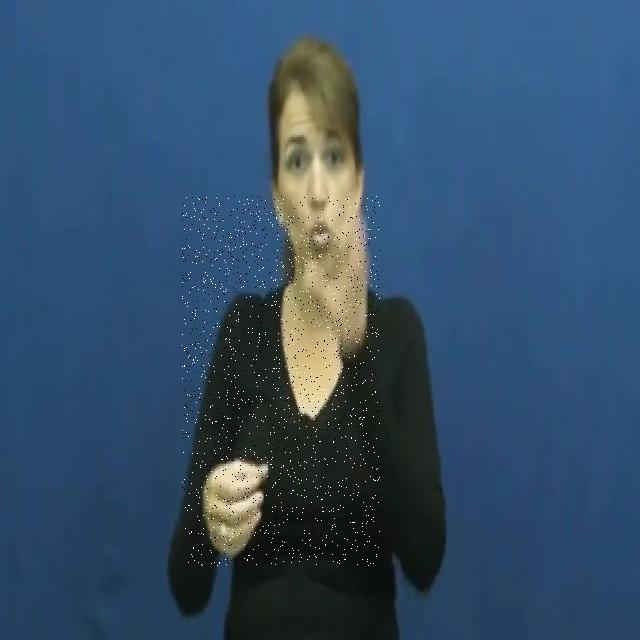straw: (182, 196, 380, 566)
